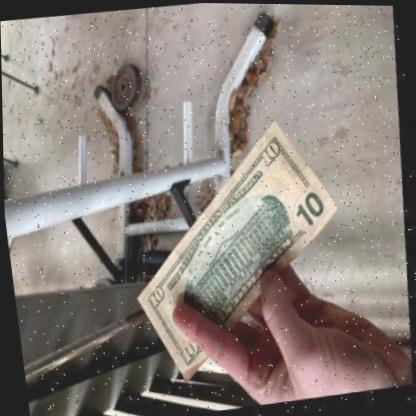ten-back: (140, 119, 342, 381)
